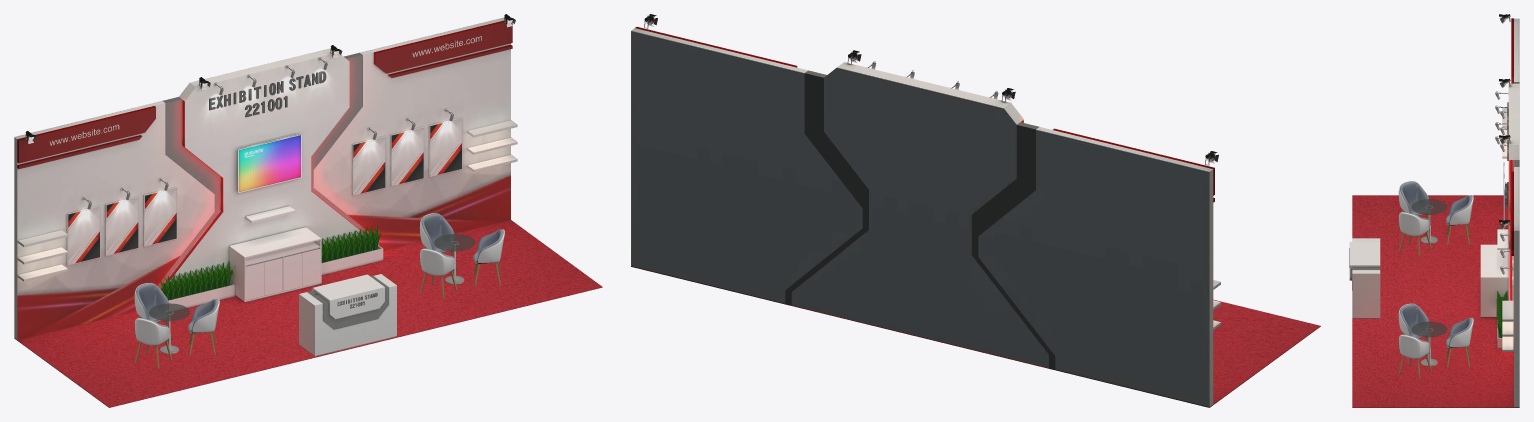
The model's file is estande.glb.
3 views of the same model, side by side, from view 1: azimuth 30°, elevation 25°; view 2: azimuth 150°, elevation 25°; view 3: azimuth 270°, elevation 25° (orthographic). The views are drawn at different scales.
Parts seen in each view (by area): view 1: Object_6, Object_2, Object_15, Object_27, Object_14, Object_9, Object_7, Object_8, Object_12, Object_3, Object_19, Object_11 (+9 smaller); view 2: Object_15, Object_8, Object_2, Object_14; view 3: Object_2, Object_15, Object_9, Object_7, Object_12, Object_31, Object_23, Object_26, Object_24, Object_21, Object_22, Object_25 (+6 smaller).
Boxes of the visible parts, <box> form: Object_6: <box>17,43,510,339</box>; Object_2: <box>14,220,602,407</box>; Object_15: <box>14,17,505,339</box>; Object_27: <box>67,117,462,265</box>; Object_14: <box>17,20,512,168</box>; Object_9: <box>299,274,396,356</box>; Object_7: <box>229,227,321,302</box>; Object_8: <box>157,52,379,288</box>; Object_12: <box>17,120,517,281</box>; Object_3: <box>237,134,301,193</box>; Object_19: <box>168,225,380,299</box>; Object_11: <box>168,245,383,310</box>; Object_15: <box>631,28,1213,407</box>; Object_8: <box>785,70,1055,369</box>; Object_2: <box>631,266,1320,407</box>; Object_14: <box>635,27,1214,202</box>; Object_2: <box>1352,195,1519,407</box>; Object_15: <box>1508,18,1519,407</box>; Object_9: <box>1349,238,1380,318</box>; Object_7: <box>1480,244,1508,317</box>; Object_12: <box>1497,108,1513,351</box>; Object_31: <box>1411,199,1447,337</box>; Object_23: <box>1398,303,1431,358</box>; Object_26: <box>1398,181,1431,235</box>; Object_24: <box>1398,211,1431,257</box>; Object_21: <box>1398,334,1431,379</box>; Object_22: <box>1446,317,1473,367</box>; Object_25: <box>1446,195,1473,245</box>.
Bounding box in the file's own units: 9.47 × 4.06 × 3.21.
Materials: 23 (23 with a texture image).
